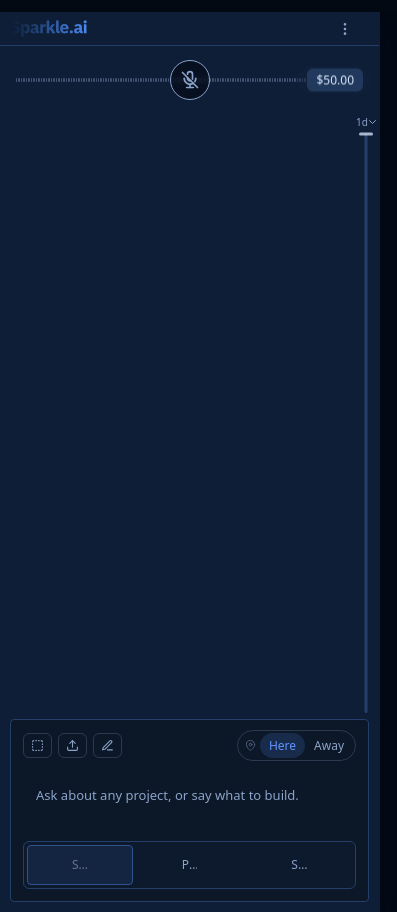
Test case: the refusals keep the founder's words › posts the transport's own reason when the send fails
Type "@Ada hi" into the text box named "Message" at (190,804), box [23,775,356,833]
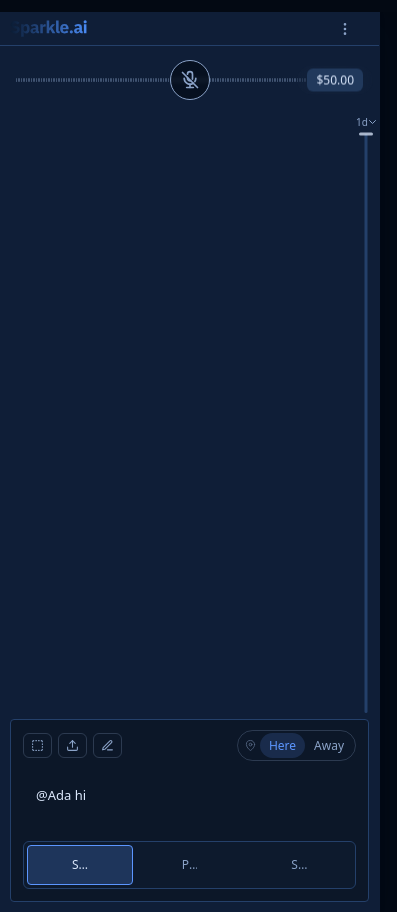
Click the button "Send" at (80,865), box [27,845,133,885]
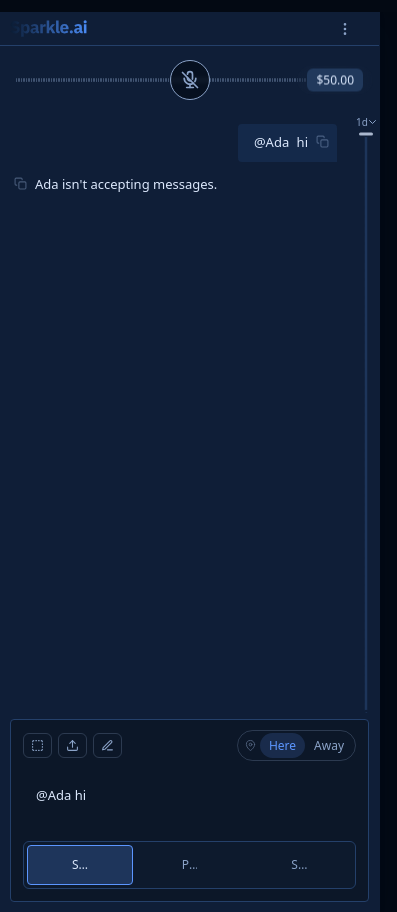
expect the element with test id "concierge-thread" shows "Ada isn't accepting messages.": met, box [35,174,217,192]
